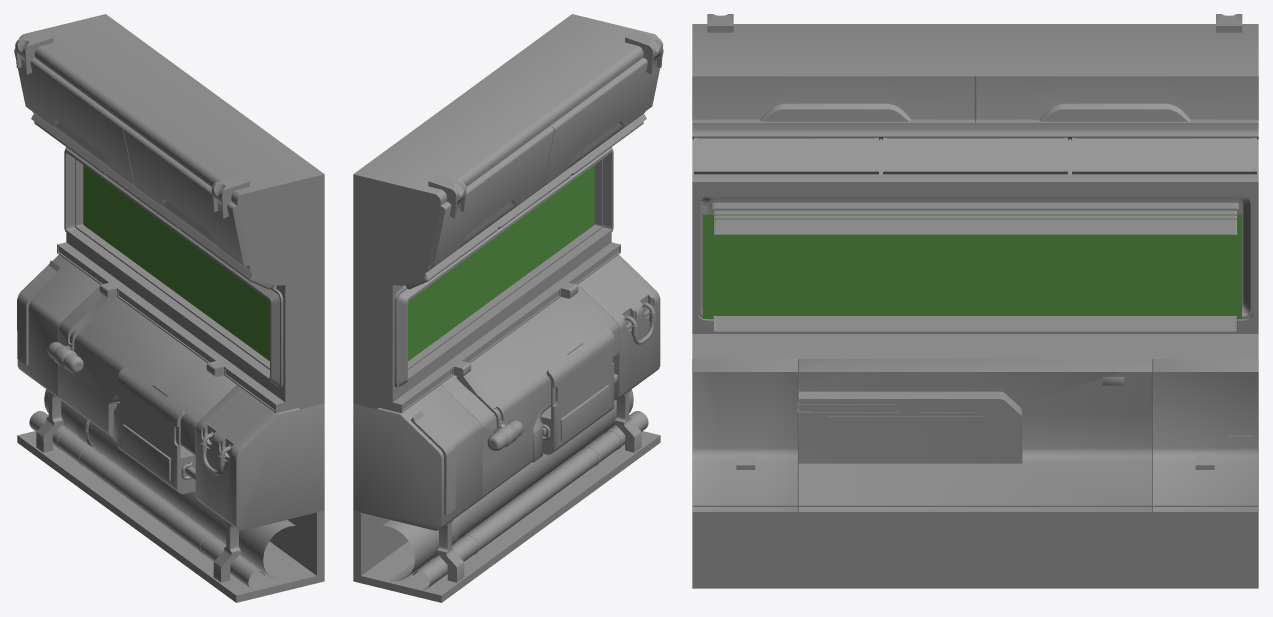
The model's file is SM_window_3.FBX.
3 renders of one model, left to right at view 1: azimuth 30°, elevation 25°; view 2: azimuth 150°, elevation 25°; view 3: azimuth 270°, elevation 25°, orthographic. The views are drawn at different scales.
Parts seen in each view (by area): view 1: window_low002; view 2: window_low002; view 3: window_low002.
Part boxes in pixels (box(x1,y1,x2,y2)): window_low002: box(14, 14, 324, 602); window_low002: box(353, 14, 663, 602); window_low002: box(692, 14, 1258, 588).
Bounding box in the file's own units: 0.8252 × 3.12 × 3.
